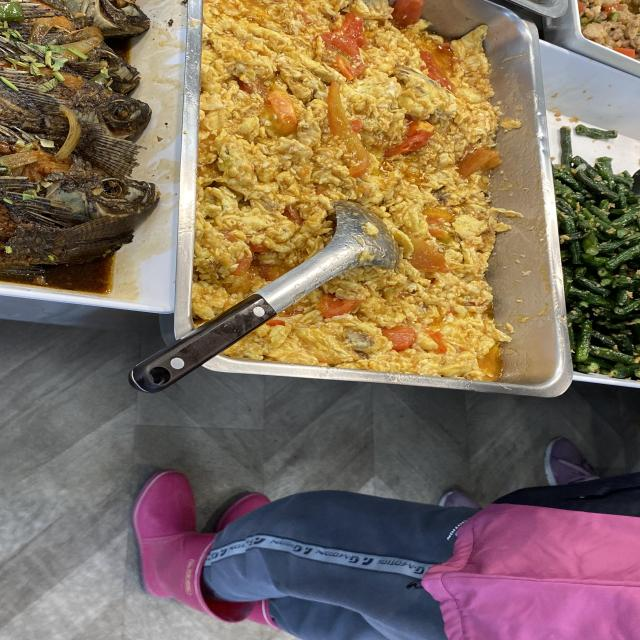Scramble Egg with Tomatoes: (227, 47, 478, 191)
